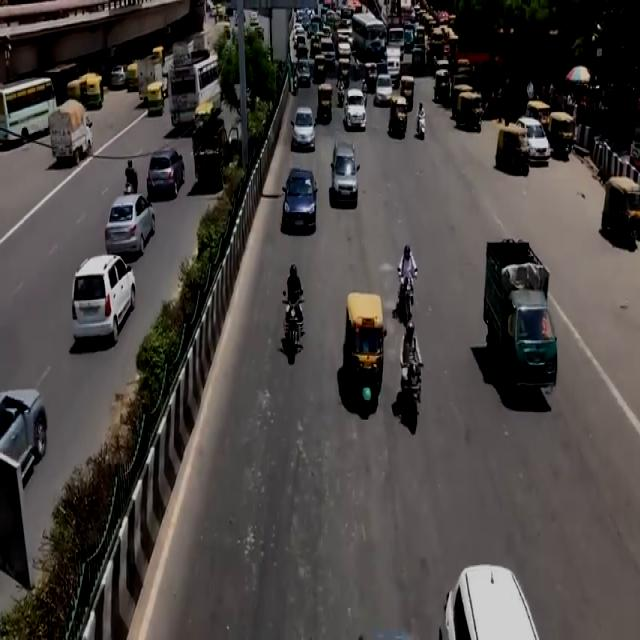BUS: (0, 77, 55, 143), (352, 13, 387, 66)
MOTORCYCLE: (403, 360, 422, 435), (284, 300, 304, 366), (398, 268, 415, 325), (418, 115, 424, 143)
TRUCK: (488, 237, 558, 405), (170, 48, 226, 130), (66, 72, 104, 107)
